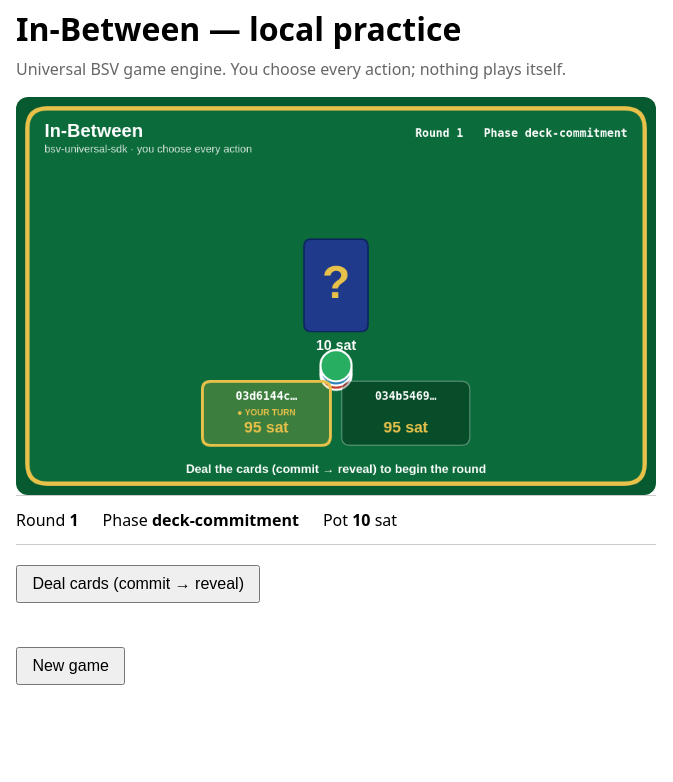
Scenario: client-web UI › rejects an out-of-range bet with a visible error, without crashing
Click the button with test id "deal" at (138,584), box [16,565,260,603]
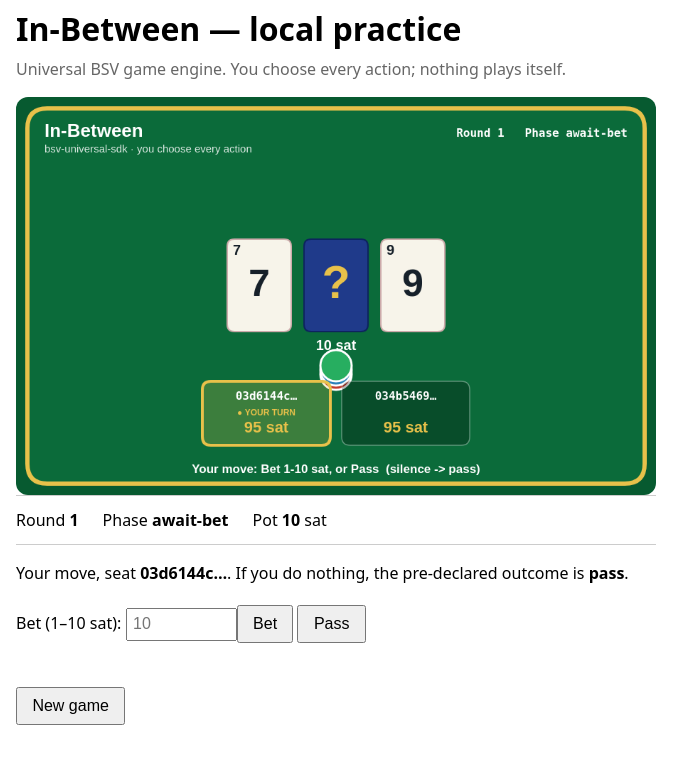
Type "99999" into the field with test id "amount" at (181,624), box [126,608,237,641]
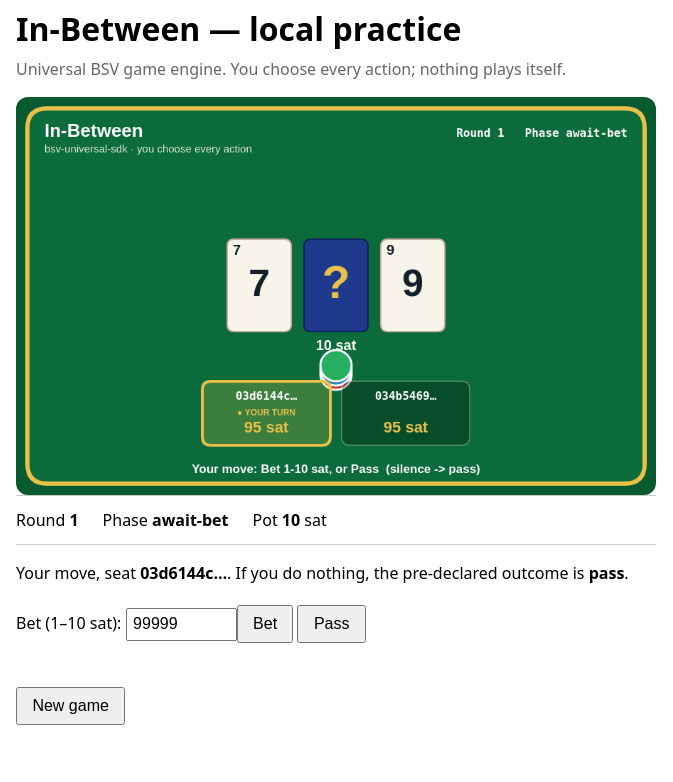
Click the button with test id "bet" showing "Bet" at (265,624), box [237,605,294,643]
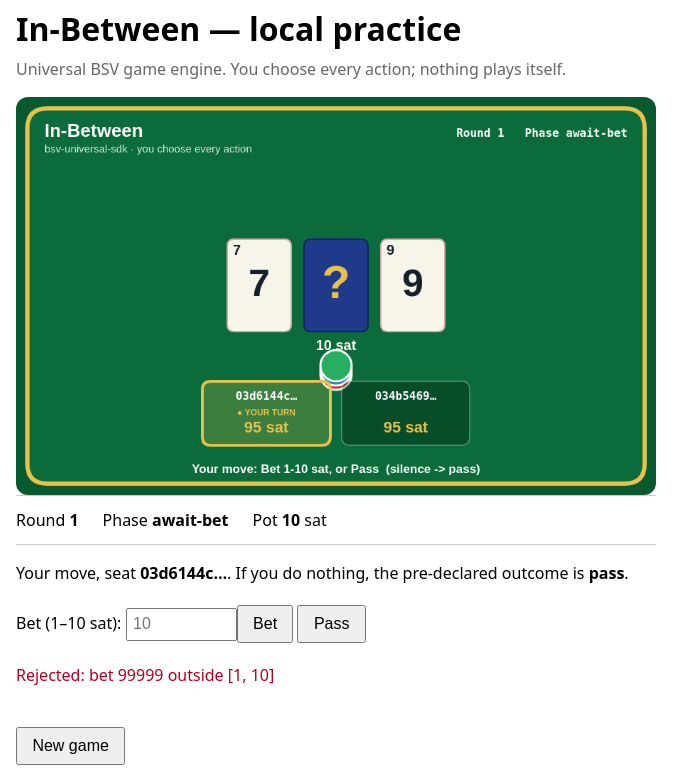
expect the message with test id "error" shows "Rejected": met, box [16,664,89,686]
